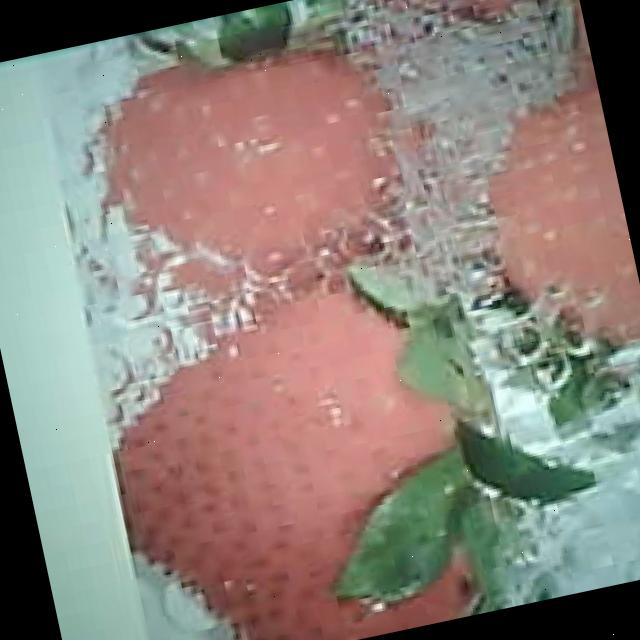strawberry: (87, 265, 513, 640)
